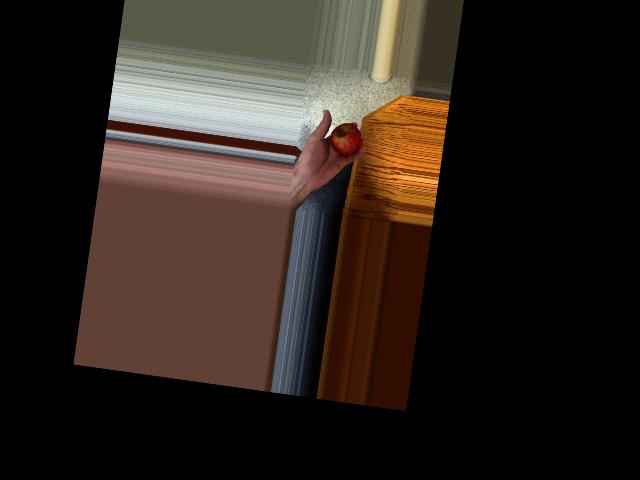apple: (325, 120, 363, 160)
